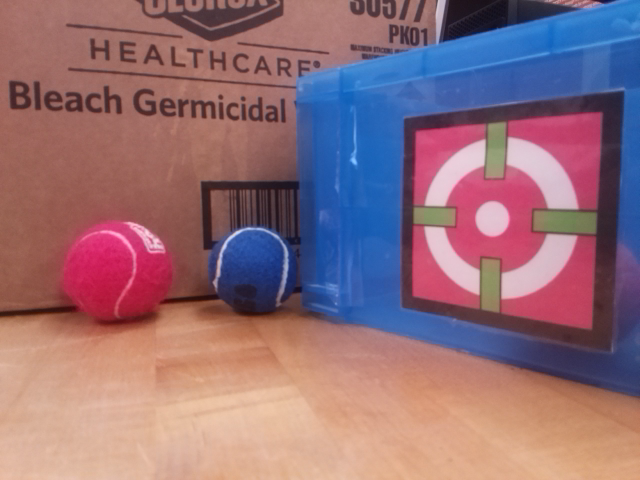blue-ball: (206, 224, 300, 316)
drop-bin: (399, 89, 625, 353)
red-ball: (60, 217, 175, 326)
